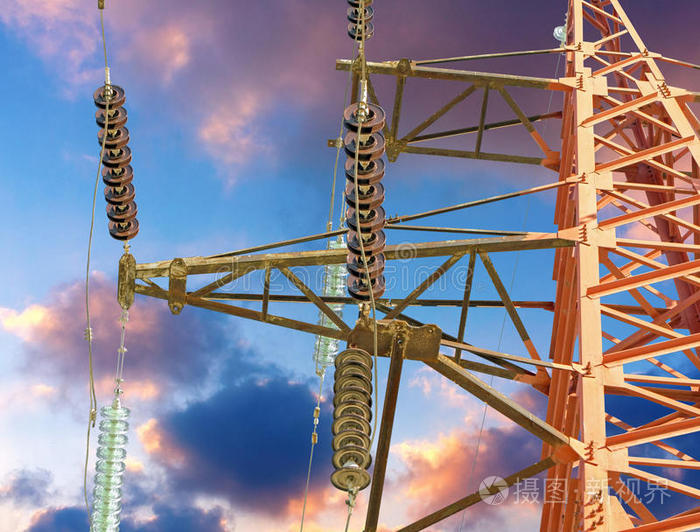insulator: (340, 101, 392, 303), (91, 80, 139, 242), (329, 345, 375, 492), (85, 403, 135, 532), (315, 238, 349, 363), (345, 1, 380, 40)
